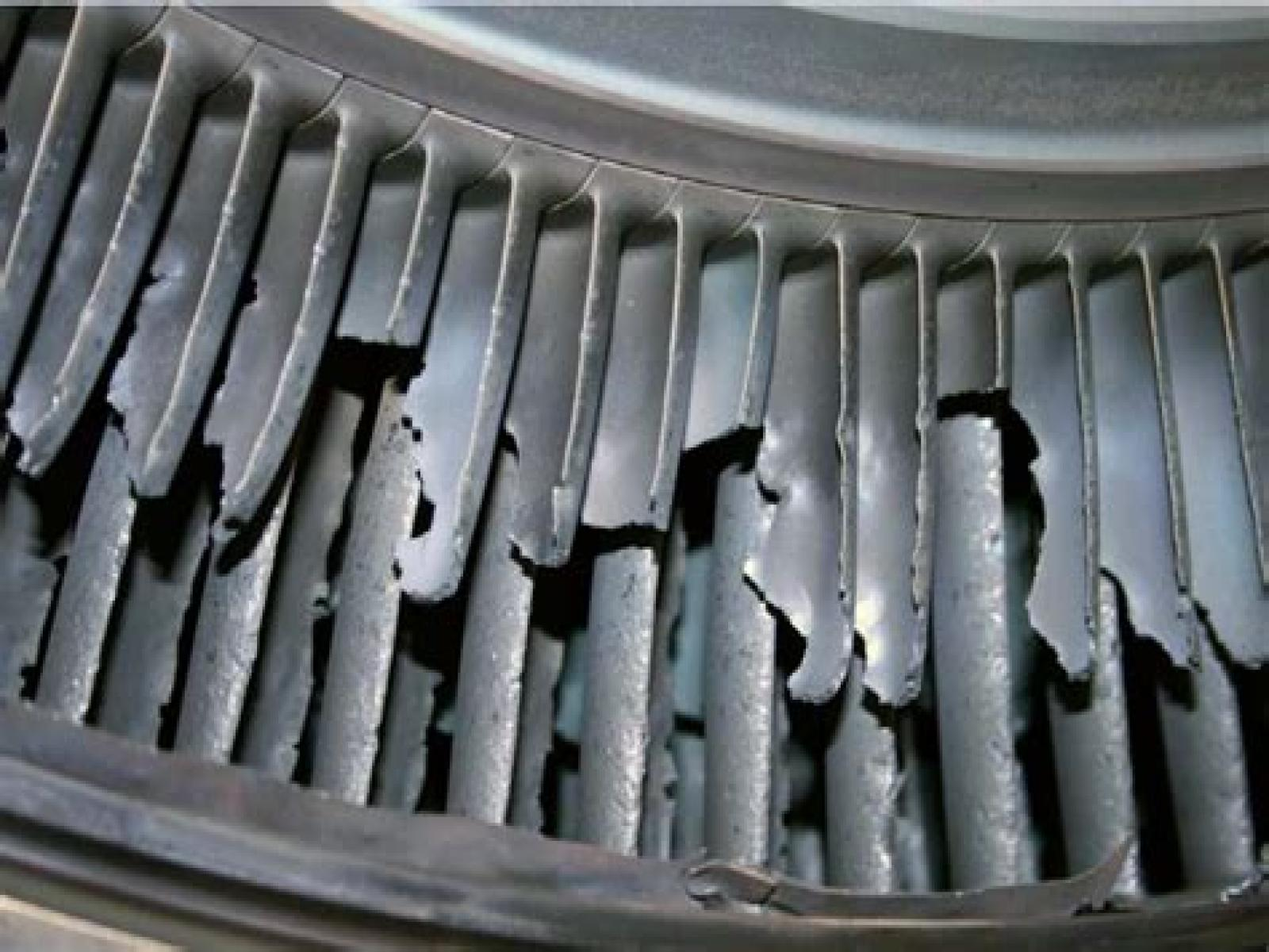Engine_damage: (11, 27, 195, 474), (110, 72, 278, 496), (399, 180, 535, 598), (203, 123, 332, 490), (744, 246, 846, 697), (1087, 267, 1194, 667), (1162, 258, 1266, 661), (581, 201, 699, 529), (1009, 264, 1092, 676), (509, 207, 597, 562), (319, 339, 420, 414), (937, 258, 991, 393)
